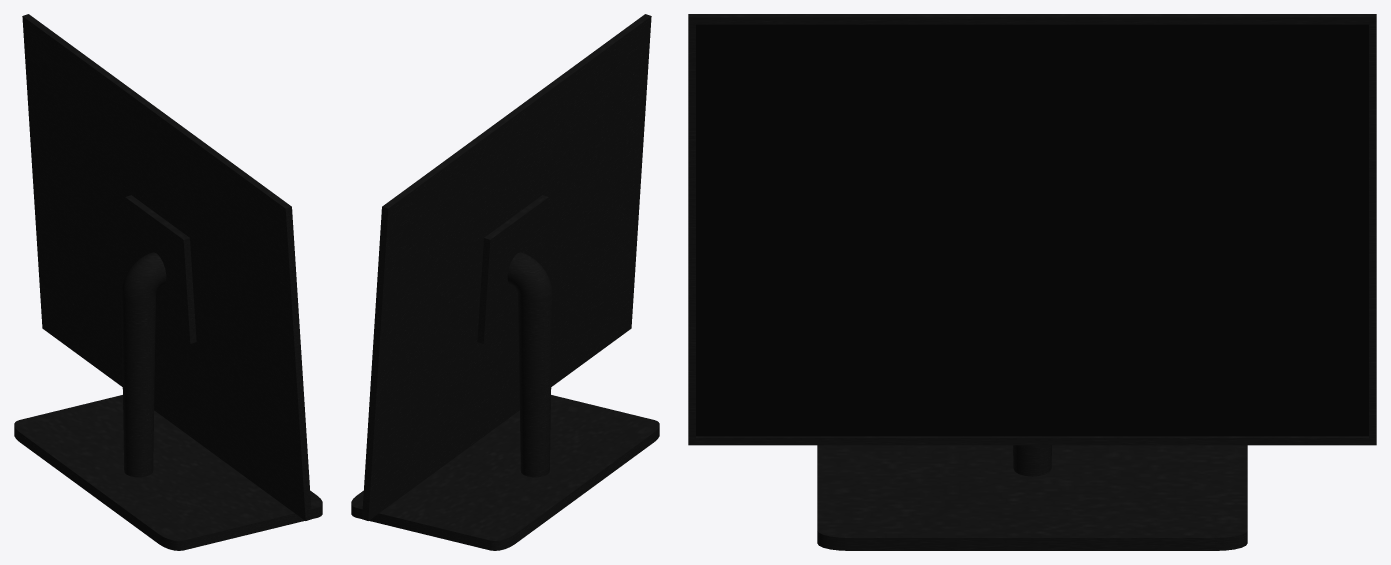
The model's file is monitor.glb.
3 renders of one model, left to right at view 1: azimuth 30°, elevation 25°; view 2: azimuth 150°, elevation 25°; view 3: azimuth 270°, elevation 25°, orthographic. The views are drawn at different scales.
Parts seen in each view (by area): view 1: monitor; view 2: monitor; view 3: monitor.
Part boxes in pixels (x1,y1,x2,y2): monitor: [14, 14, 322, 550]; monitor: [351, 14, 659, 550]; monitor: [688, 14, 1376, 550].
Size of the model in its own units: 0.25 by 0.5516 by 0.72.
Materials: 2 (2 with a texture image).
